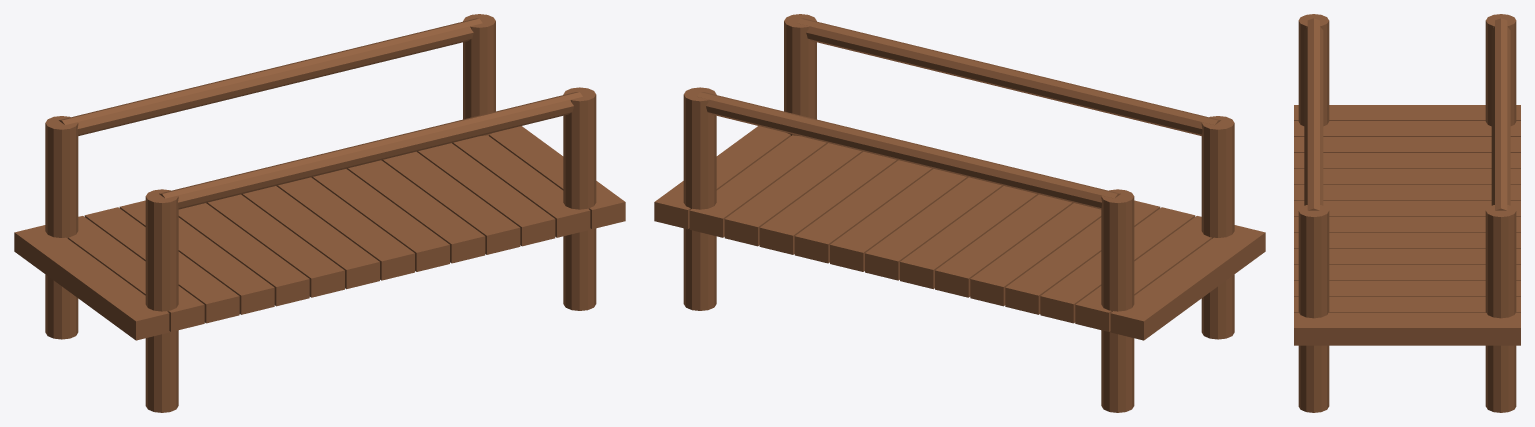
File: 100_canal_footbridge.glb
3 views of the same model, side by side, from view 1: azimuth 30°, elevation 25°; view 2: azimuth 150°, elevation 25°; view 3: azimuth 270°, elevation 25° (orthographic). The views are drawn at different scales.
Parts seen in each view (by area): view 1: Canal footbridge; view 2: Canal footbridge; view 3: Canal footbridge.
Part boxes in pixels (x1=…): Canal footbridge: x1=14, y1=14, x2=625, y2=412; Canal footbridge: x1=654, y1=14, x2=1265, y2=412; Canal footbridge: x1=1294, y1=14, x2=1520, y2=412.
Size of the model in its own units: 2.93 by 1.21 by 1.26.
